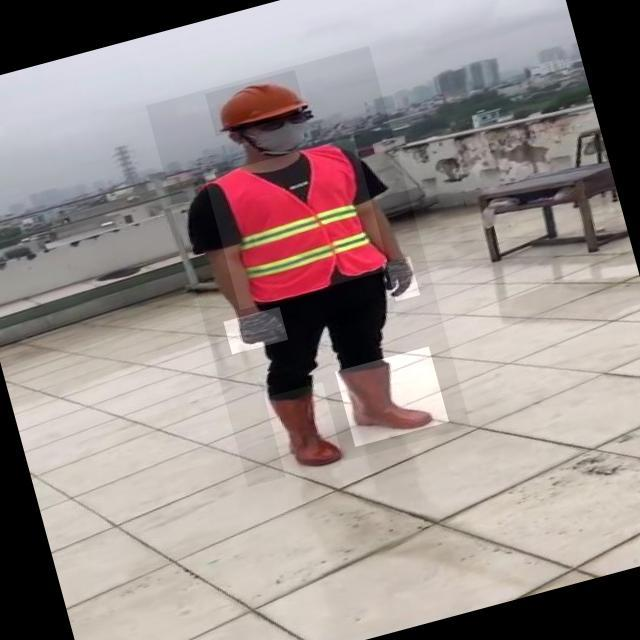Gloves: (223, 306, 288, 354), (385, 256, 420, 301)
Helmet: (205, 69, 307, 136)
Human: (146, 45, 471, 486)
Safety Boot: (335, 346, 450, 447), (265, 382, 344, 479)
Safety Vest: (204, 137, 389, 310)
